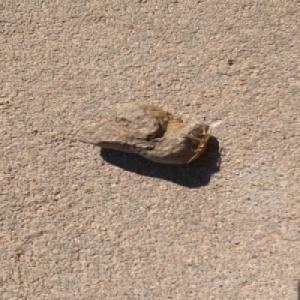Rock: (75, 102, 211, 165)
